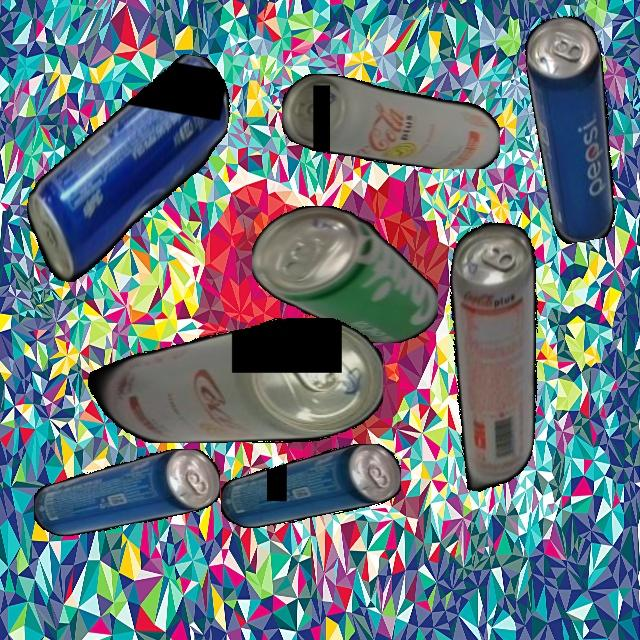debris: (16, 32, 238, 304), (413, 215, 570, 499), (79, 318, 383, 443), (519, 12, 632, 245), (252, 205, 438, 343), (282, 73, 500, 169), (33, 449, 220, 536), (220, 444, 401, 528)
